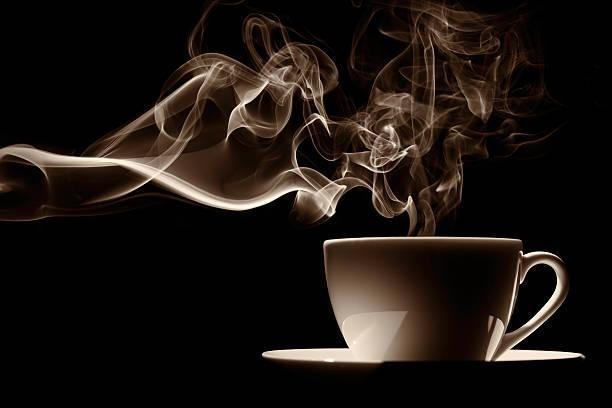cup-handle: (322, 234, 571, 364)
